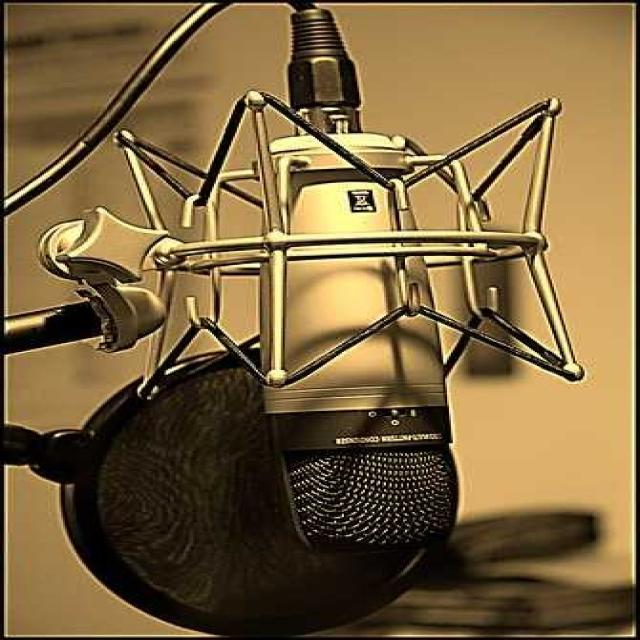microphone: (266, 14, 457, 544)
